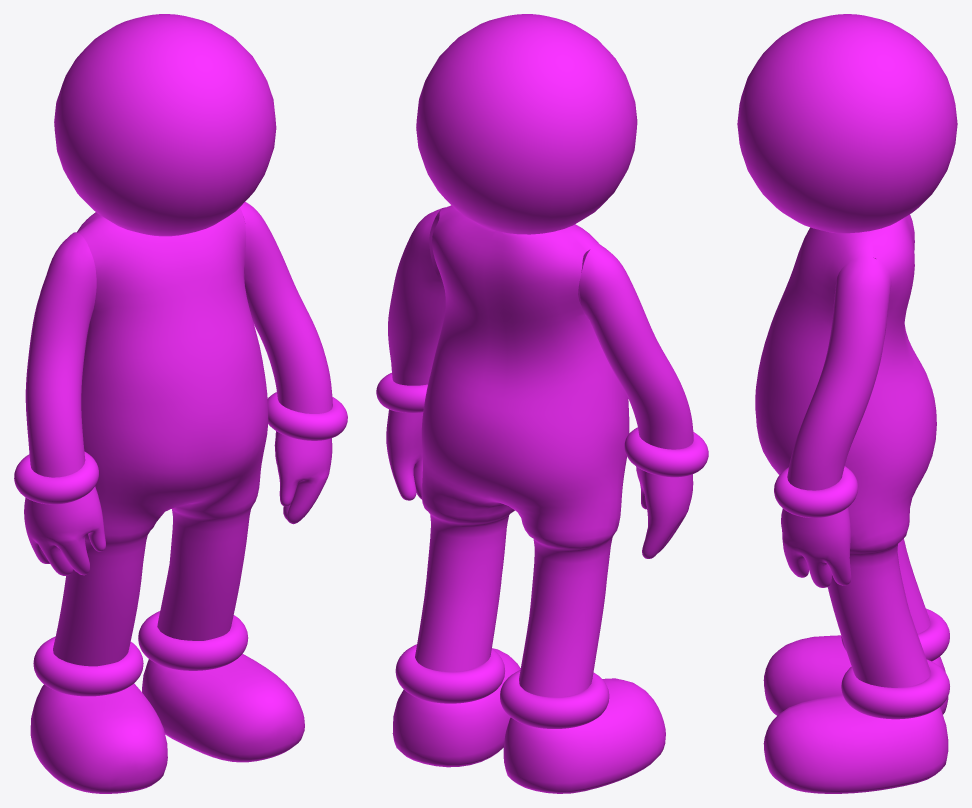
Rendered from example.glb.
The picture shows the model from 3 angles, left to right: view 1: azimuth 30°, elevation 25°; view 2: azimuth 150°, elevation 25°; view 3: azimuth 270°, elevation 25°; orthographic projection.
Visible parts, largest first — view 1: Sphere.001; view 2: Sphere.001; view 3: Sphere.001.
Part boxes in pixels (x1=…): Sphere.001: x1=14, y1=14, x2=347, y2=793; Sphere.001: x1=376, y1=14, x2=708, y2=793; Sphere.001: x1=737, y1=14, x2=957, y2=793.
Bounding box in the file's own units: 0.4604 × 0.9937 × 0.2756.
